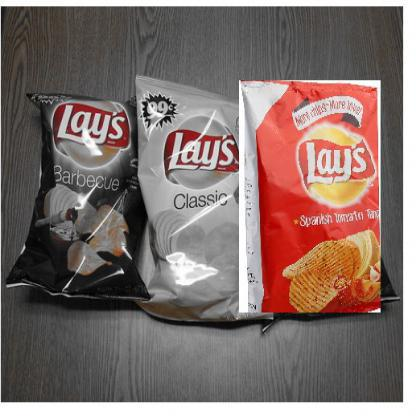tangy_tomato: (242, 80, 382, 314)
